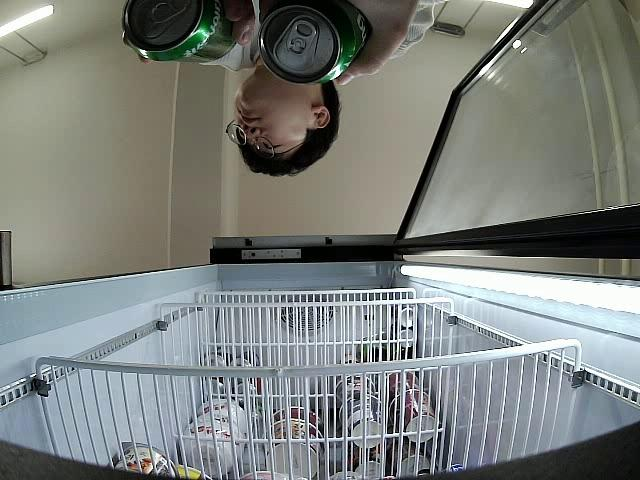12_chilsungCider: (259, 6, 371, 84), (121, 0, 236, 62)
